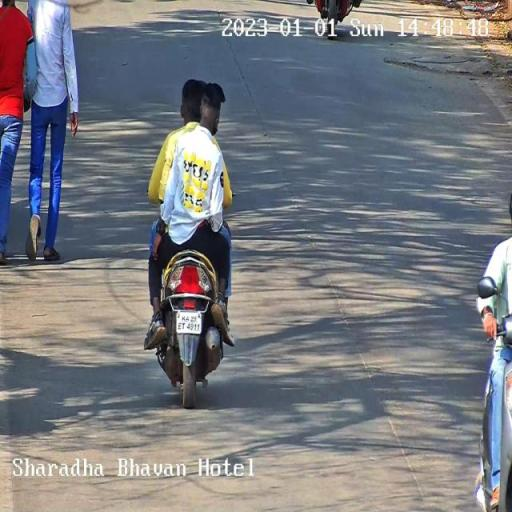tripple riding: (145, 74, 240, 261)
